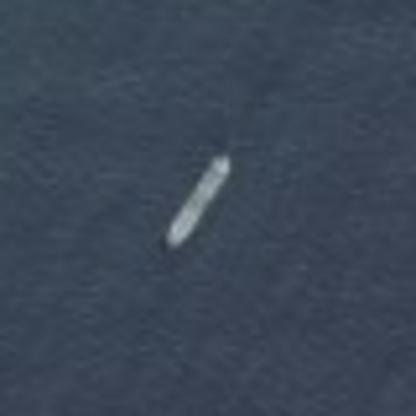ship: (158, 148, 236, 254)
